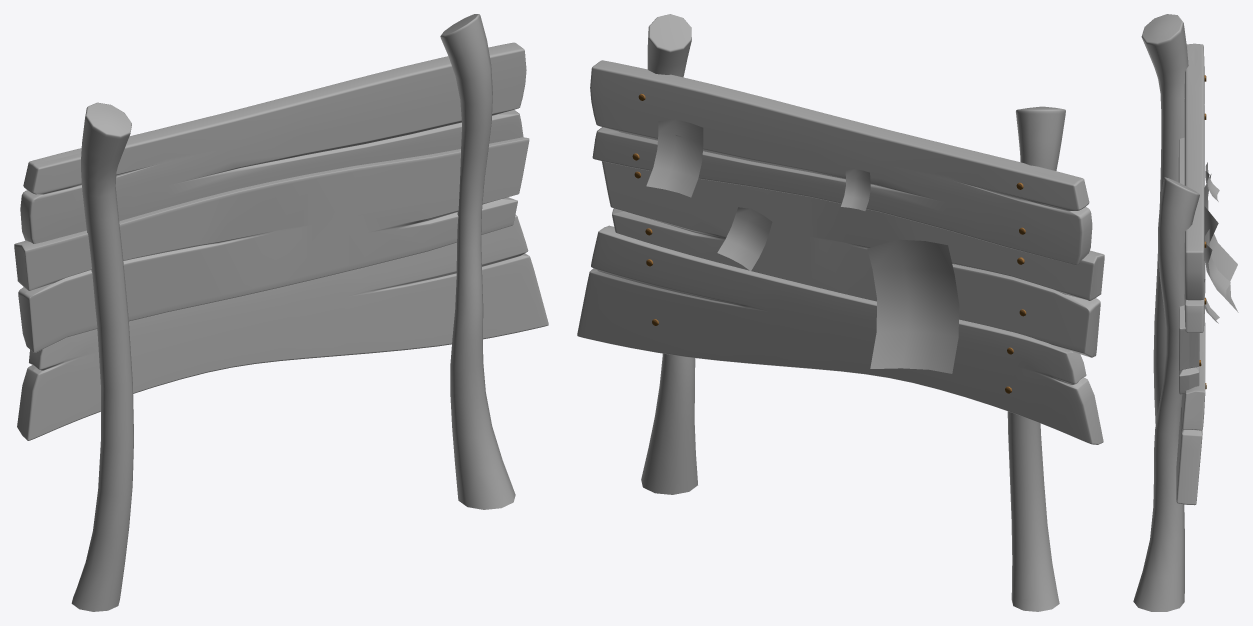
File: model_board.fbx
The picture shows the model from 3 angles, left to right: view 1: azimuth 30°, elevation 25°; view 2: azimuth 150°, elevation 25°; view 3: azimuth 270°, elevation 25°; orthographic projection. The views are drawn at different scales.
Parts seen in each view (by area): view 1: Planks, Poles; view 2: Planks, Poles, pPlane2, pPlane1, pPlane3, pPlane4; view 3: Poles, Planks, pPlane2, pPlane1, pPlane4.
Part boxes in pixels (left/top/right/bottom): Planks: left=14, top=42, right=548, bottom=440; Poles: left=71, top=14, right=515, bottom=611; Planks: left=577, top=60, right=1104, bottom=444; Poles: left=641, top=14, right=1065, bottom=611; pPlane2: left=867, top=239, right=959, bottom=373; pPlane1: left=646, top=119, right=703, bottom=197; pPlane3: left=717, top=207, right=772, bottom=270; pPlane4: left=841, top=169, right=870, bottom=210; Poles: left=1133, top=14, right=1199, bottom=611; Planks: left=1176, top=43, right=1205, bottom=505; pPlane2: left=1204, top=174, right=1238, bottom=312; pPlane1: left=1204, top=229, right=1230, bottom=301; pPlane4: left=1205, top=162, right=1219, bottom=201.
Size of the model in its own units: 2.95 by 2.67 by 0.5841.
3 materials, 1 textured.
